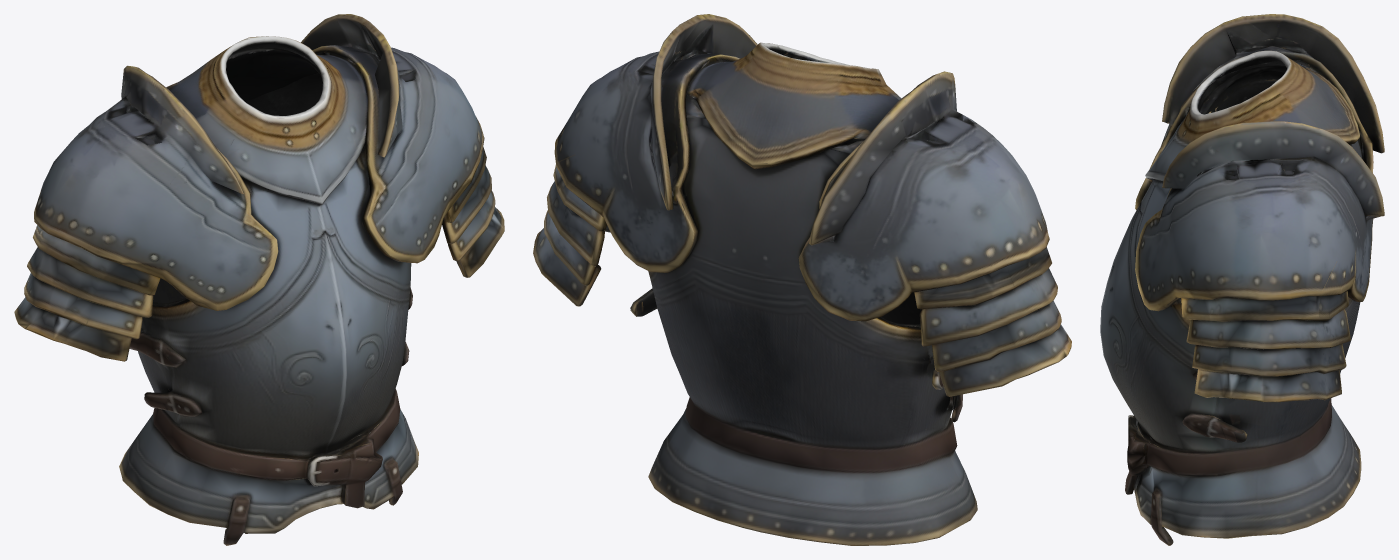
File: Meshy_Model_Import0008.fbx
The picture shows the model from 3 angles, left to right: view 1: azimuth 30°, elevation 25°; view 2: azimuth 150°, elevation 25°; view 3: azimuth 270°, elevation 25°; orthographic projection. The views are drawn at different scales.
Parts seen in each view (by area): view 1: Mesh_0; view 2: Mesh_0; view 3: Mesh_0.
Part boxes in pixels (x1,y1,x2,y2): Mesh_0: [14, 14, 504, 545]; Mesh_0: [533, 14, 1071, 545]; Mesh_0: [1100, 14, 1384, 545].
Size of the model in its own units: 191 by 169 by 99.02.
Materials: 1 (1 with a texture image).
